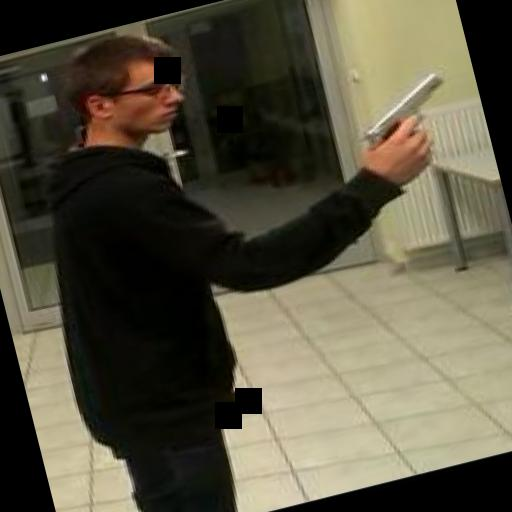Handgun: (345, 68, 463, 180)
